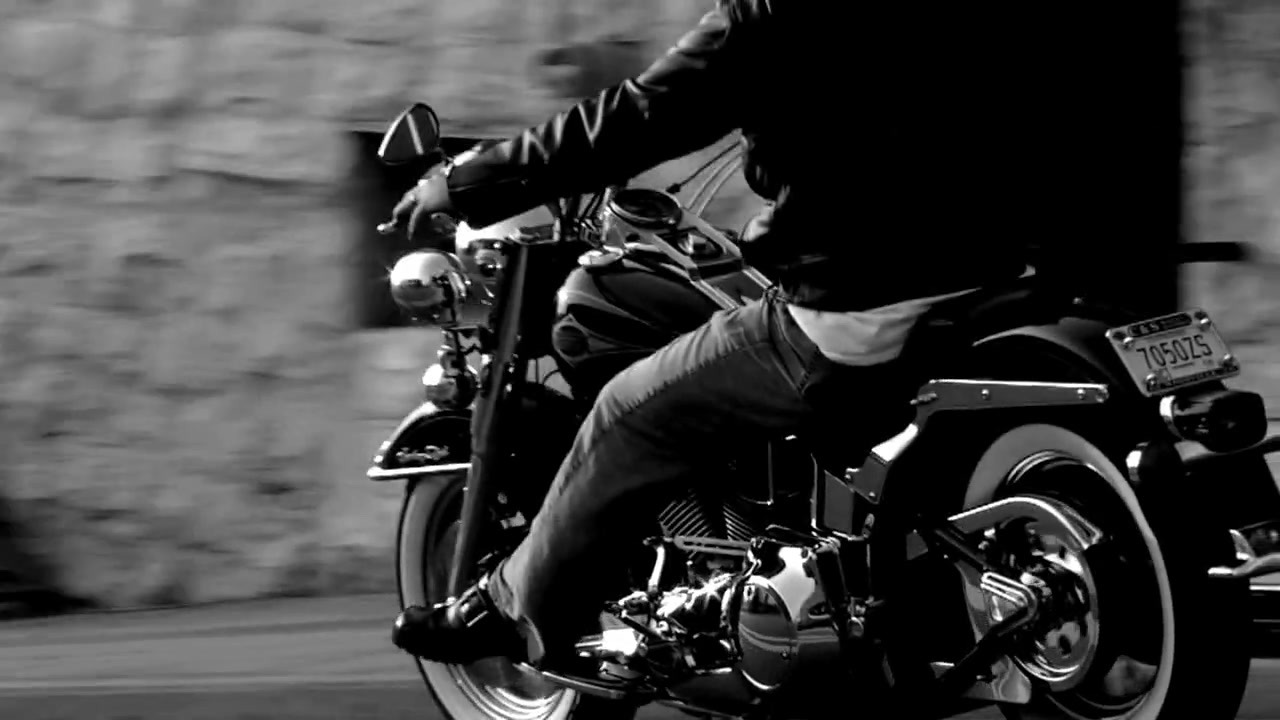motorbike: (375, 91, 1280, 720)
